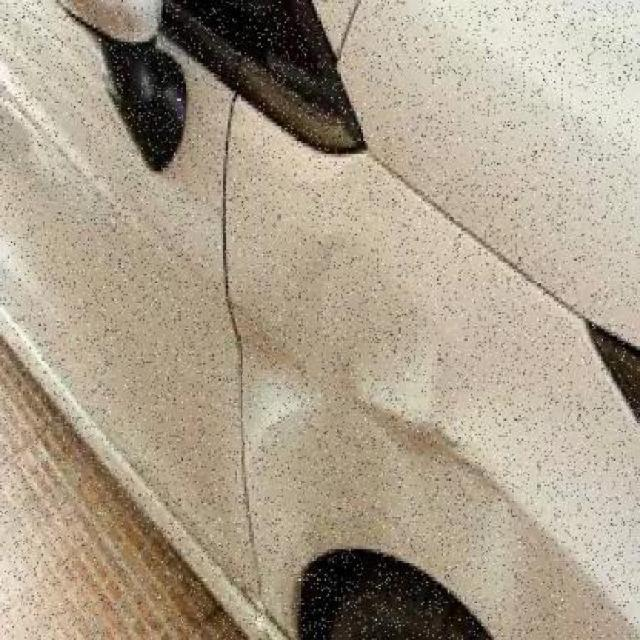fender-dent: (222, 245, 595, 637)
